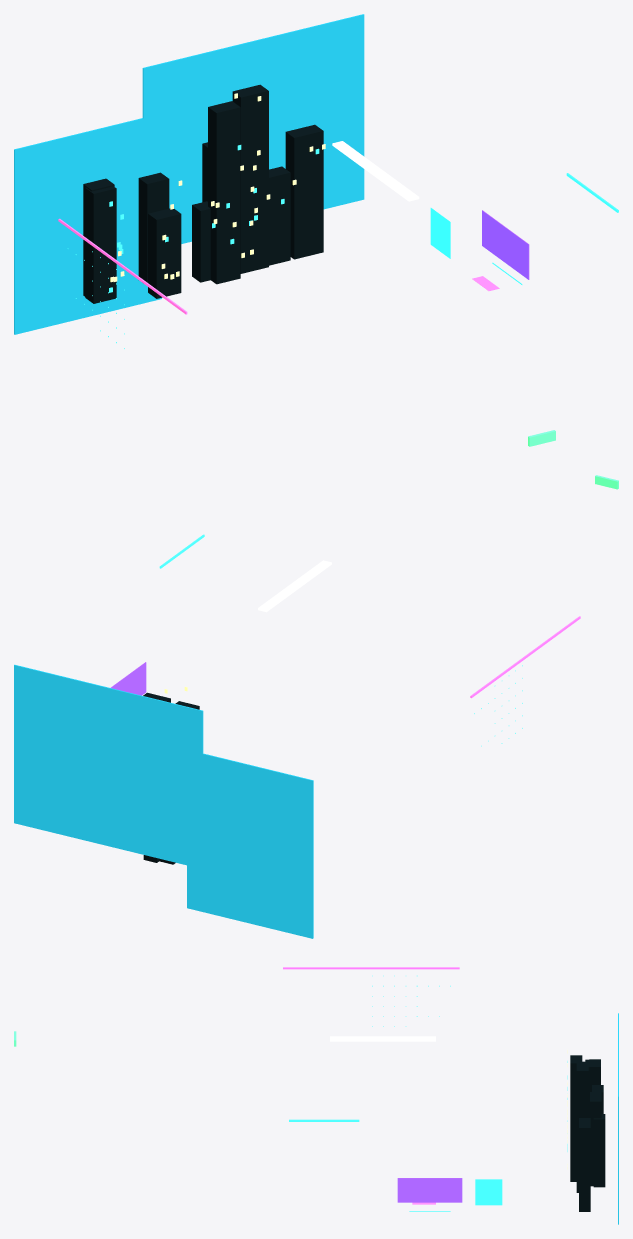
Rendered from lab-emissive-v1.glb.
The picture shows the model from 3 angles, top to bottom: view 1: azimuth 30°, elevation 25°; view 2: azimuth 150°, elevation 25°; view 3: azimuth 270°, elevation 25°; orthographic projection. The views are drawn at different scales.
Visible parts, largest first — view 1: window_sky, bldg_0, monitor_screen, ceiling_strip, tower_glass, bwin_0_0, bwin_0_2; view 2: window_sky, ceiling_strip, monitor_screen; view 3: bldg_0, monitor_screen, tower_glass, ceiling_strip, neon_L.
Boxes of the visible parts, x1=… form: window_sky: x1=14, y1=14, x2=364, y2=334; bldg_0: x1=83, y1=84, x2=323, y2=303; monitor_screen: x1=482, y1=210, x2=529, y2=279; ceiling_strip: x1=332, y1=141, x2=419, y2=201; tower_glass: x1=430, y1=208, x2=450, y2=258; bwin_0_0: x1=110, y1=93, x2=325, y2=282; bwin_0_2: x1=67, y1=145, x2=618, y2=348; window_sky: x1=14, y1=664, x2=313, y2=938; ceiling_strip: x1=258, y1=560, x2=331, y2=612; monitor_screen: x1=110, y1=662, x2=146, y2=695; bldg_0: x1=570, y1=1055, x2=605, y2=1211; monitor_screen: x1=397, y1=1178, x2=462, y2=1202; tower_glass: x1=475, y1=1179, x2=502, y2=1205; ceiling_strip: x1=330, y1=1036, x2=435, y2=1041; neon_L: x1=283, y1=967, x2=459, y2=969.
Bounding box in the file's own units: 5.94 × 3.14 × 10.28.
10 materials, 10 textured.
